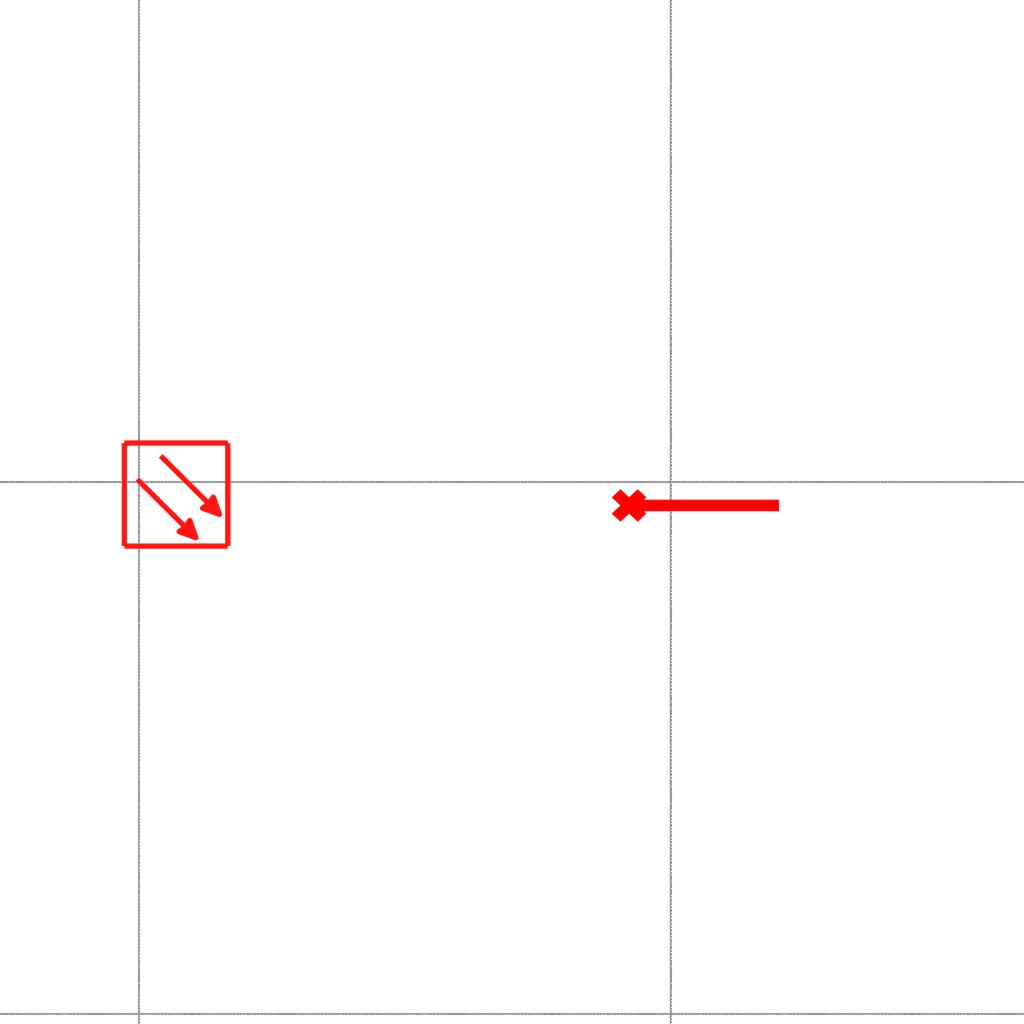ASR_Ansaugoeffnung: (609, 480, 785, 526)
RMO_Rauchmelder_optischer: (120, 438, 233, 551)
